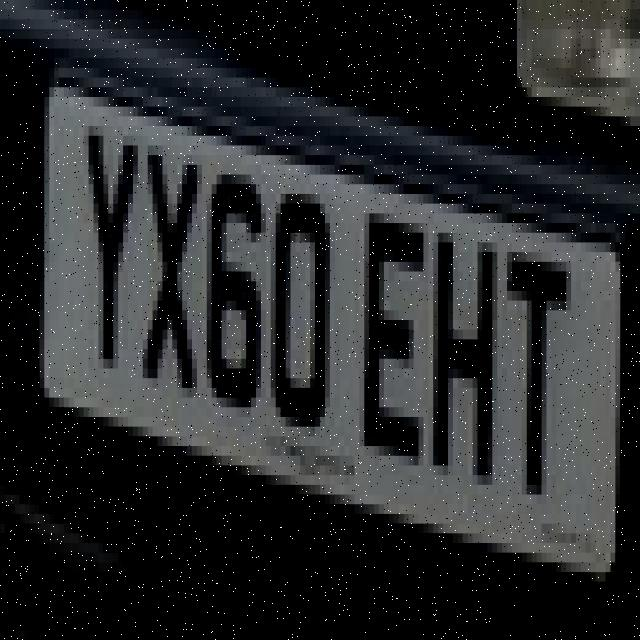licenseplate: (28, 36, 624, 611)
